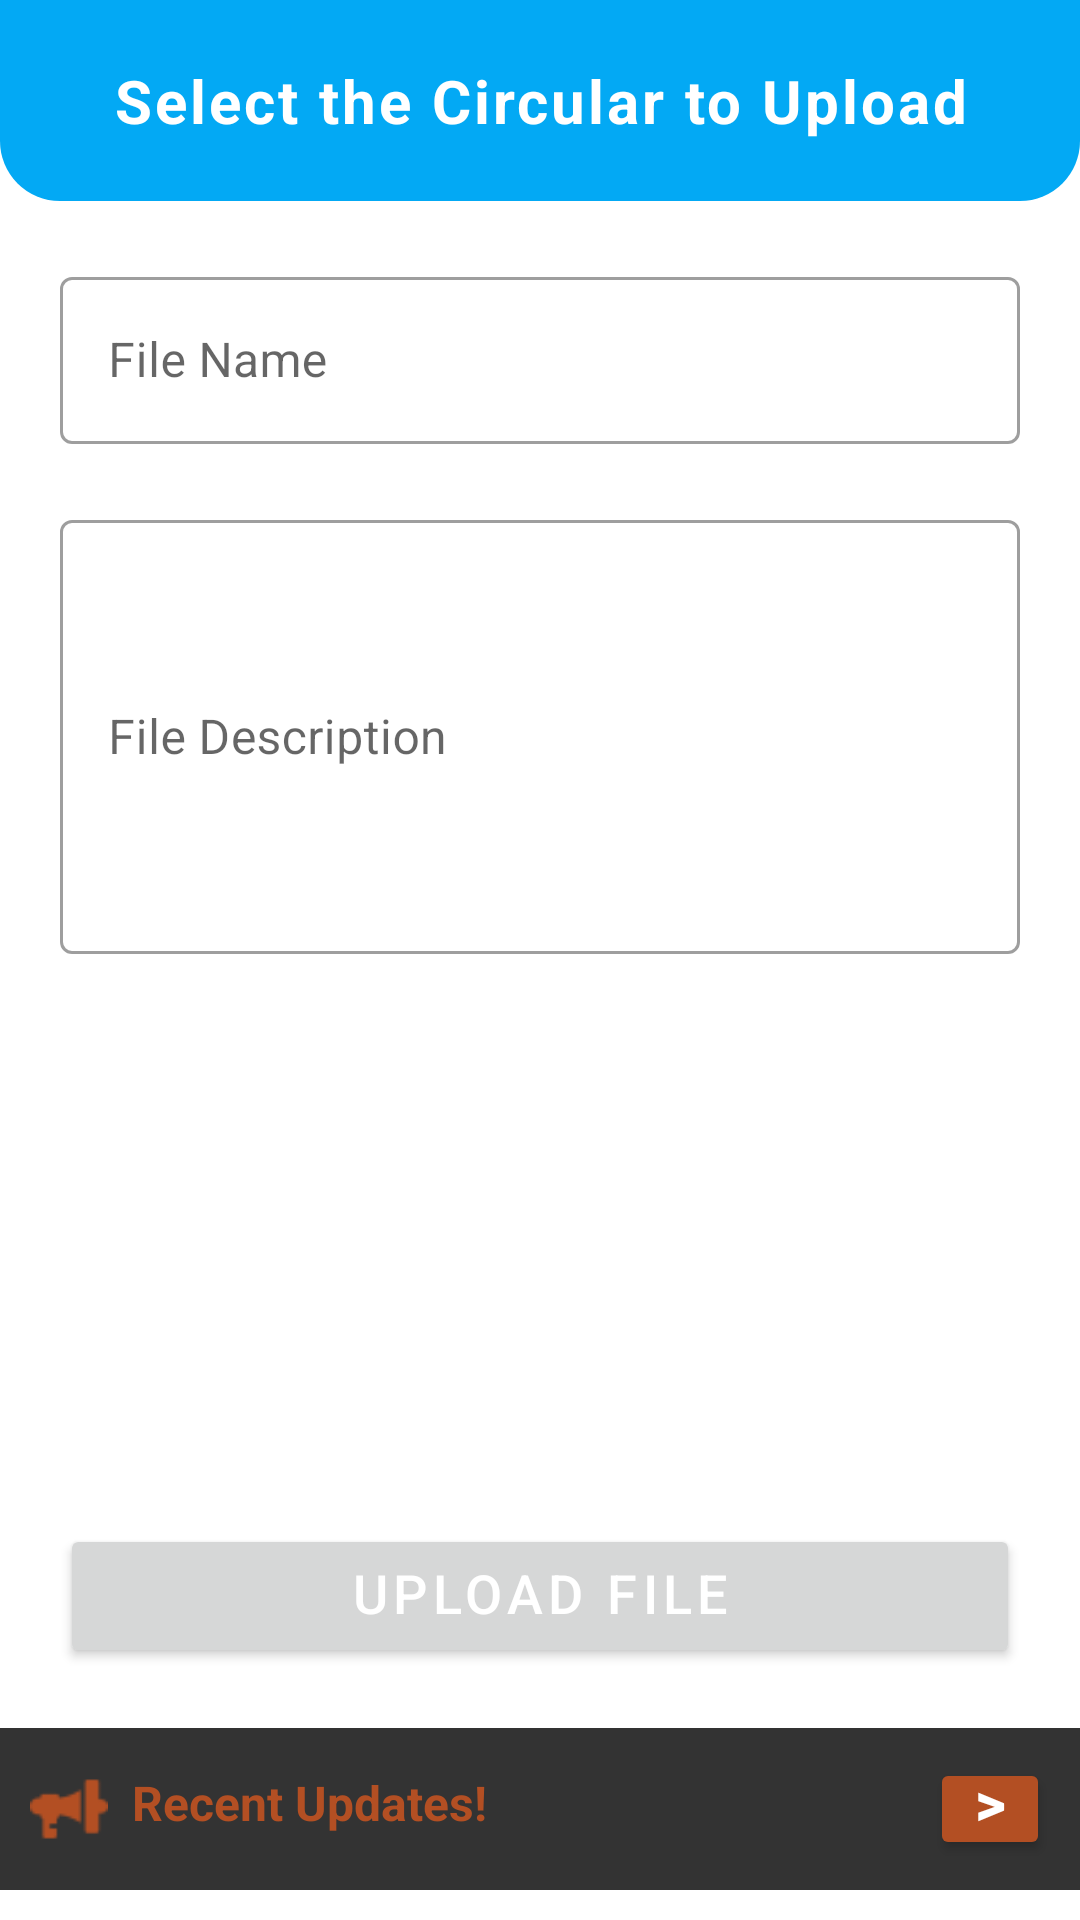

Where icons sit on this 1080 x 1920 app screen, as (x1, y1, x2, y2):
megaphone: (30, 1779, 108, 1839)
